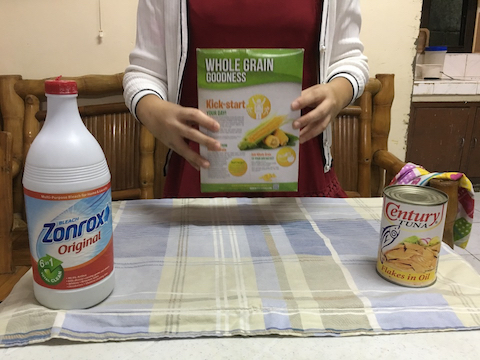bottle: (23, 77, 117, 311)
box: (193, 44, 309, 198)
can: (371, 182, 455, 288)
grab: (167, 98, 223, 172)
